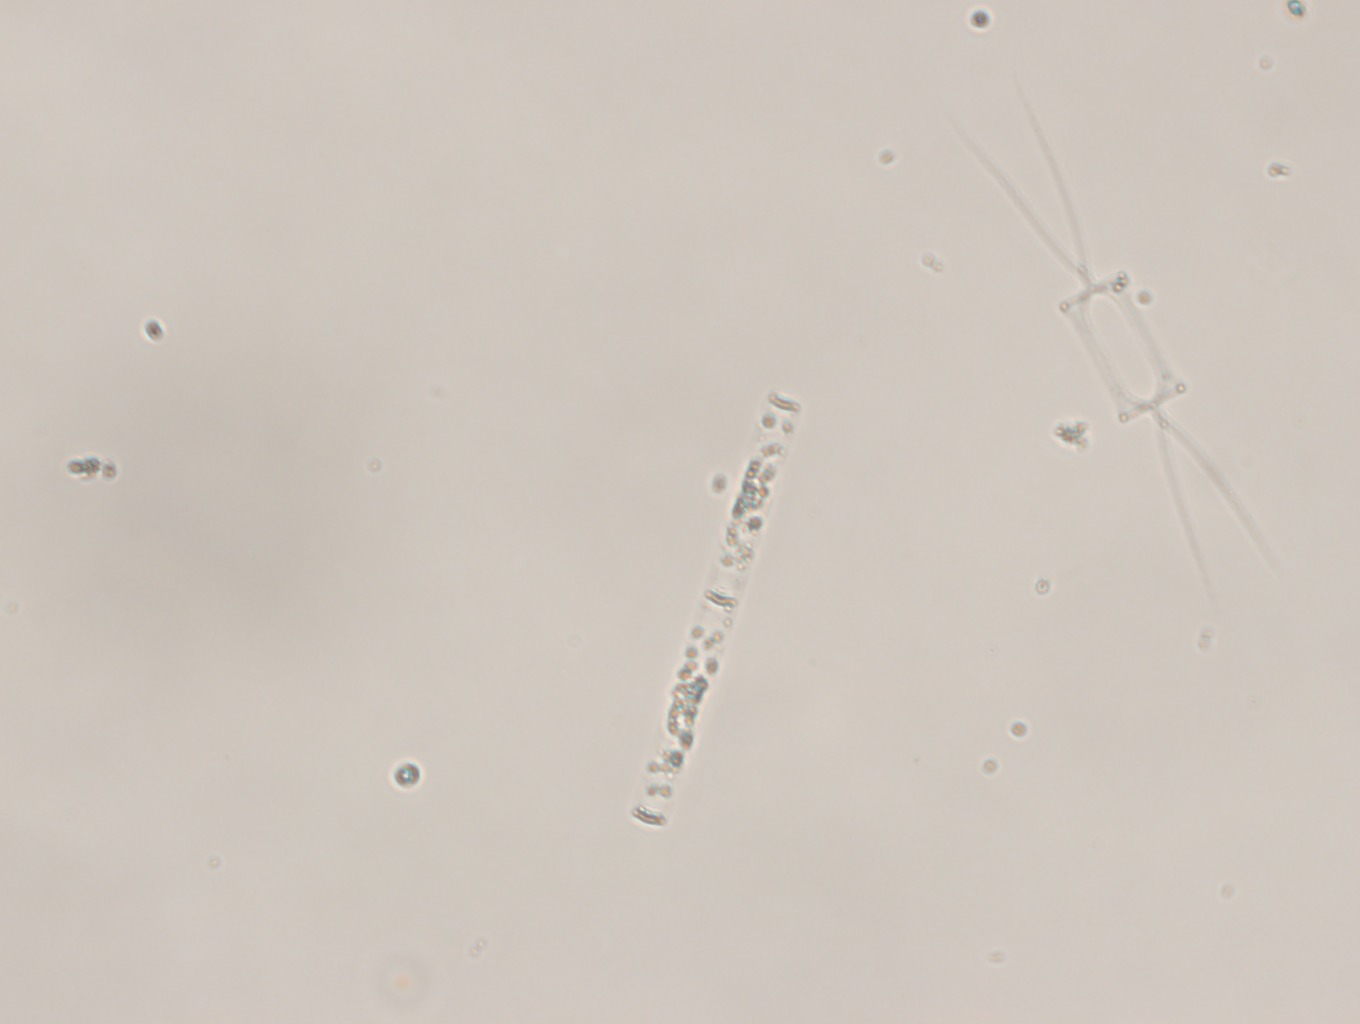chaetoceros: (937, 59, 1282, 609)
rhizosolenia: (627, 376, 803, 840)
